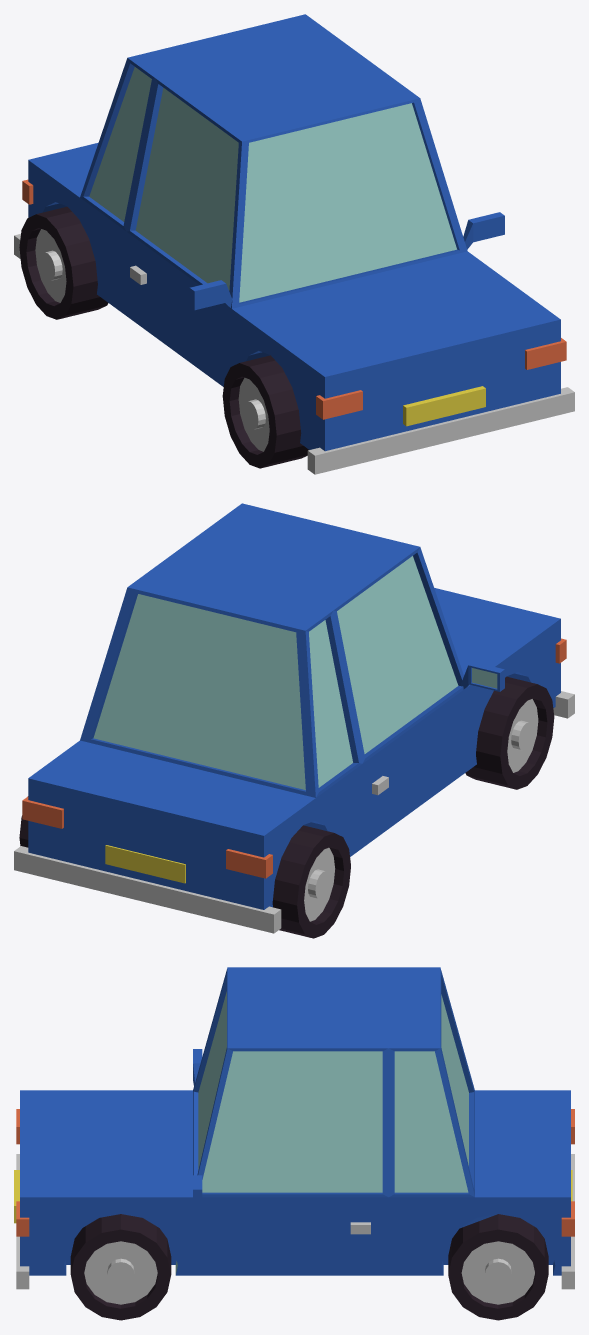
The model's file is car1.fbx.
3 views of the same model, one above another, from view 1: azimuth 30°, elevation 25°; view 2: azimuth 150°, elevation 25°; view 3: azimuth 270°, elevation 25° (orthographic). The views are drawn at different scales.
Visible parts, largest first — view 1: Cube; view 2: Cube; view 3: Cube.
Boxes of the visible parts, x1,y1,x2,y2 form: Cube: [14, 14, 574, 474]; Cube: [14, 503, 574, 938]; Cube: [14, 967, 574, 1320].
Size of the model in its own units: 378 by 314 by 638.
